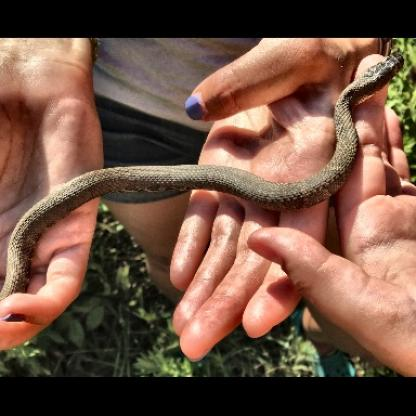Snake: (2, 39, 413, 379)
